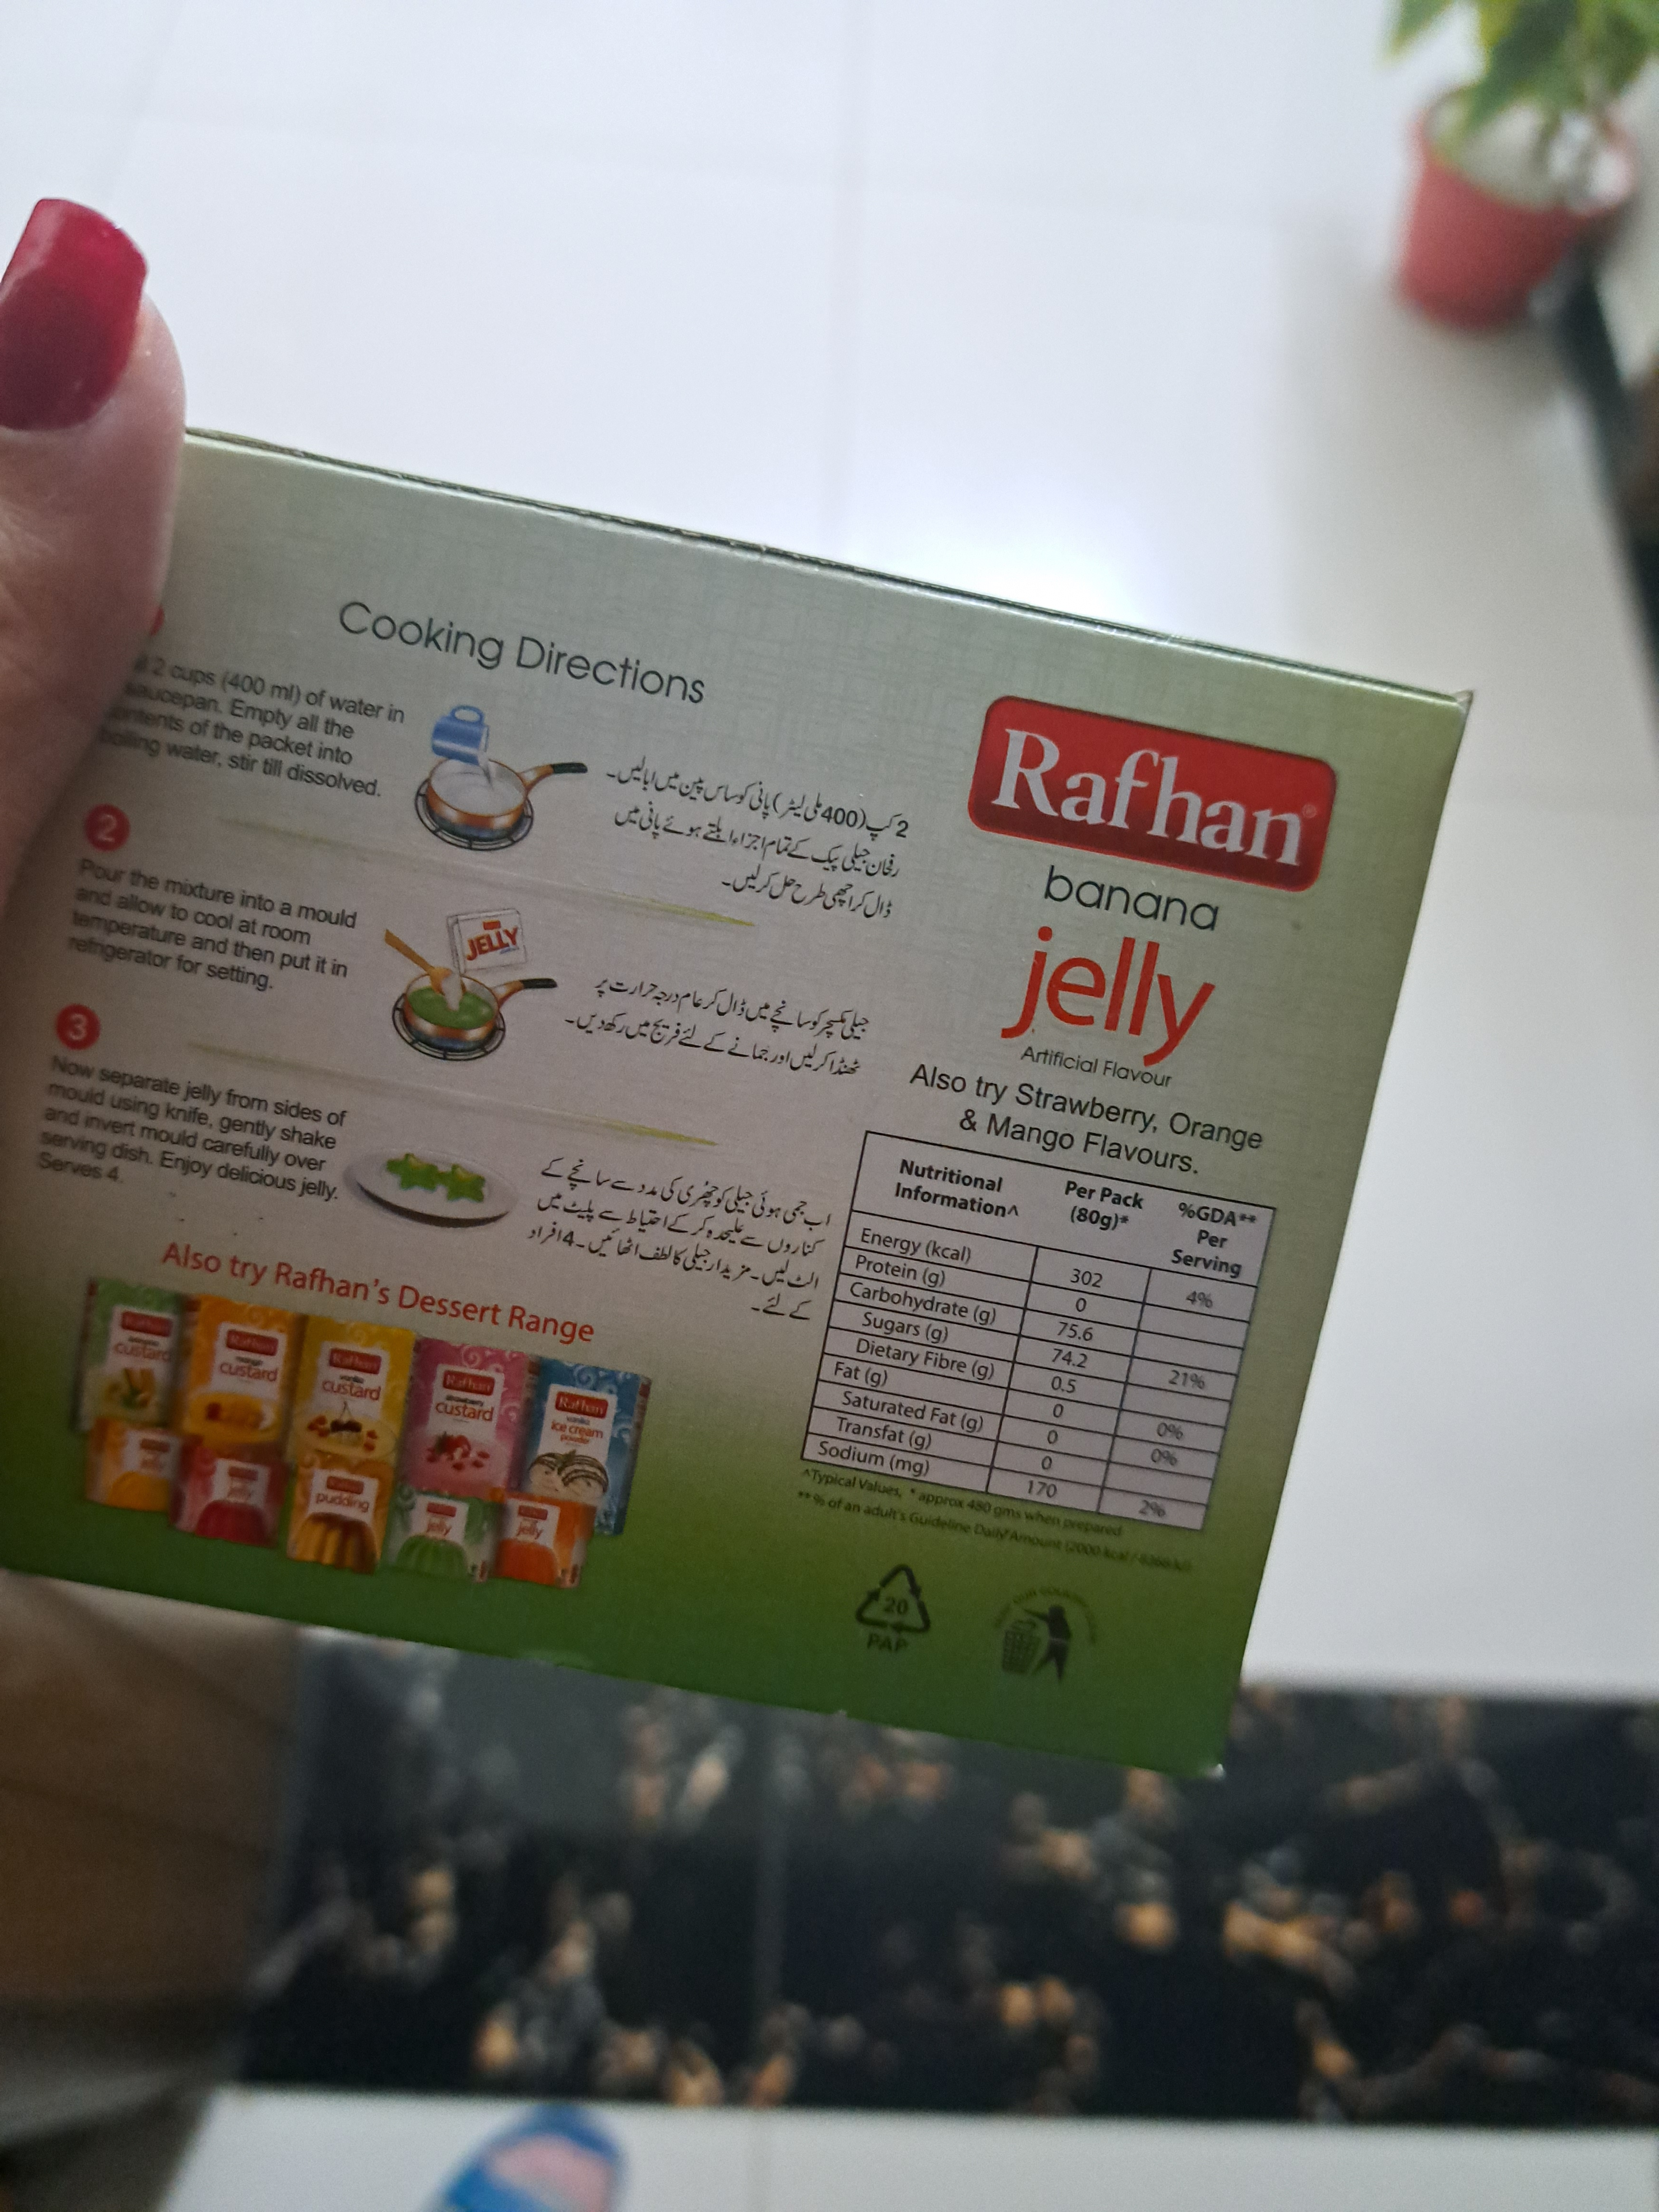table: (802, 1130, 1276, 1534)
